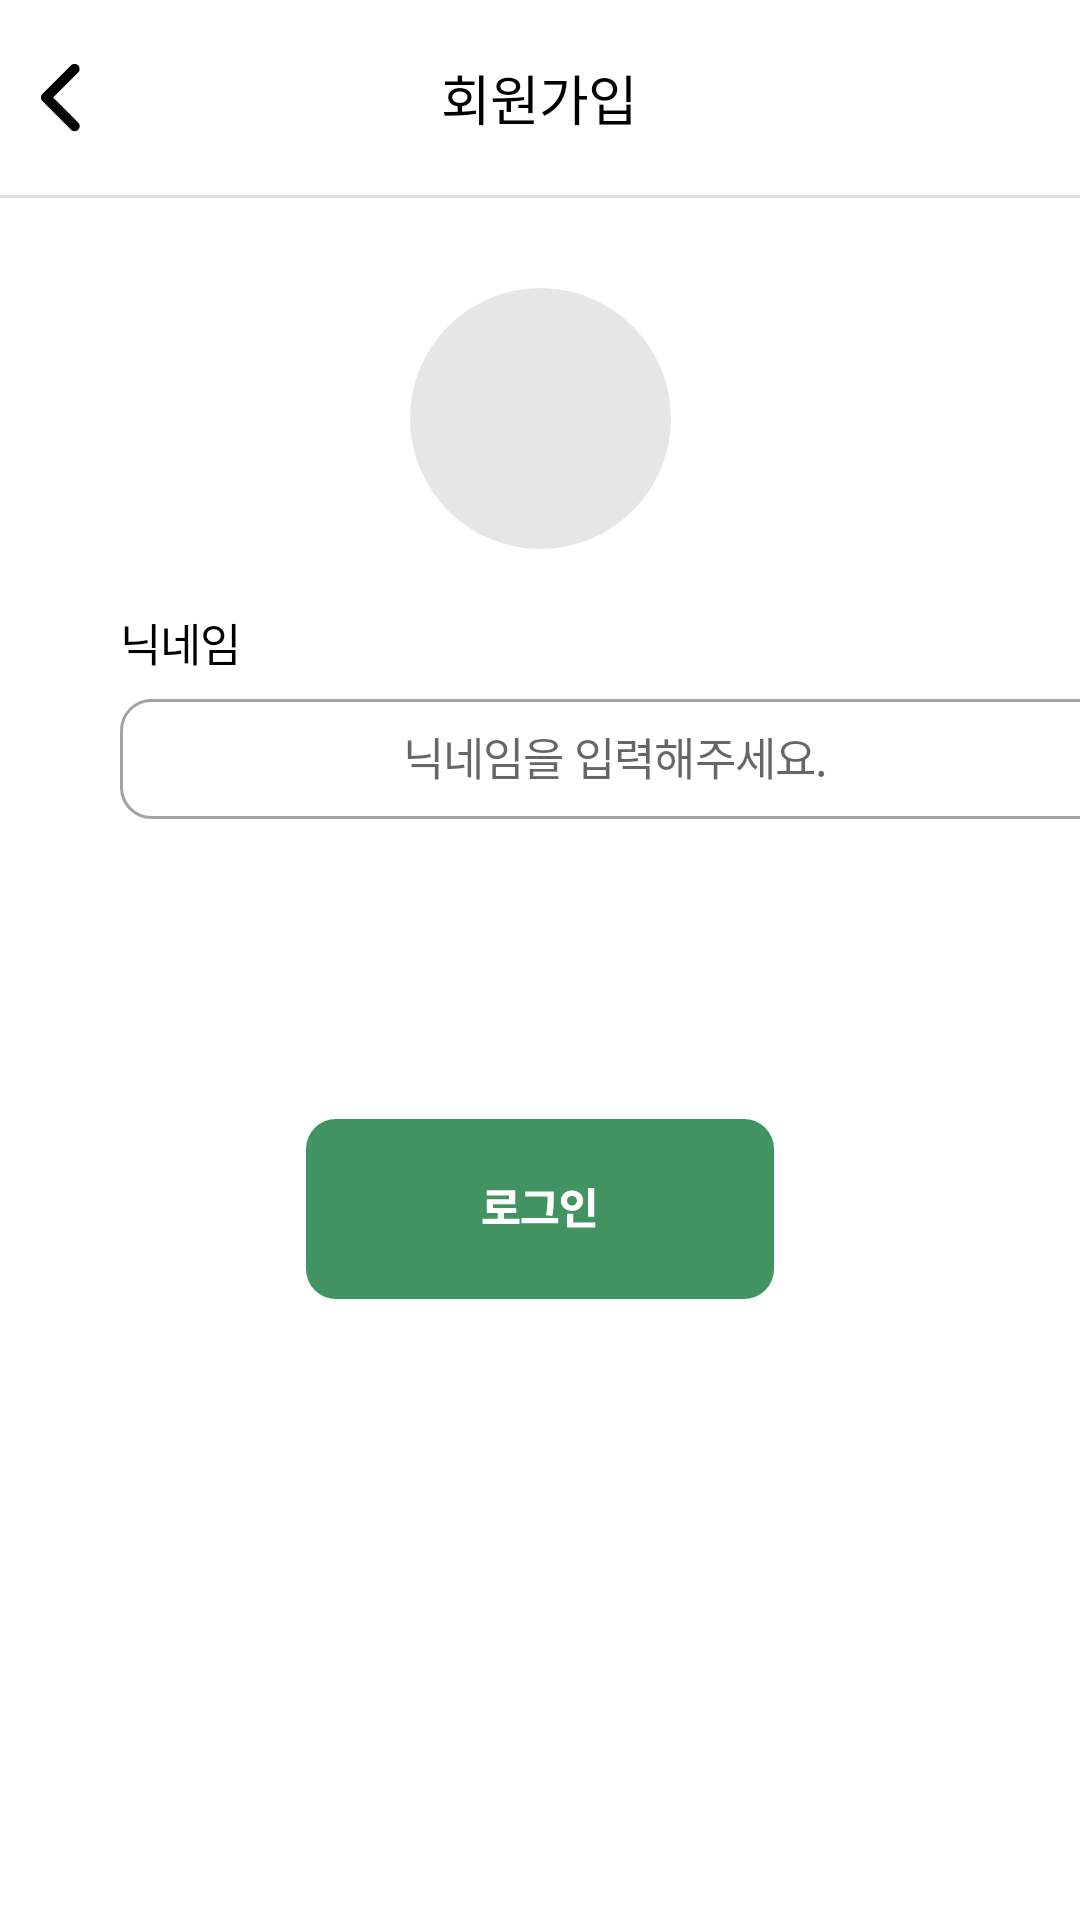

Point at icon controls on the screen. Image size 1080 x 1920, points as [x,y].
뒤로가기: [60,98]
